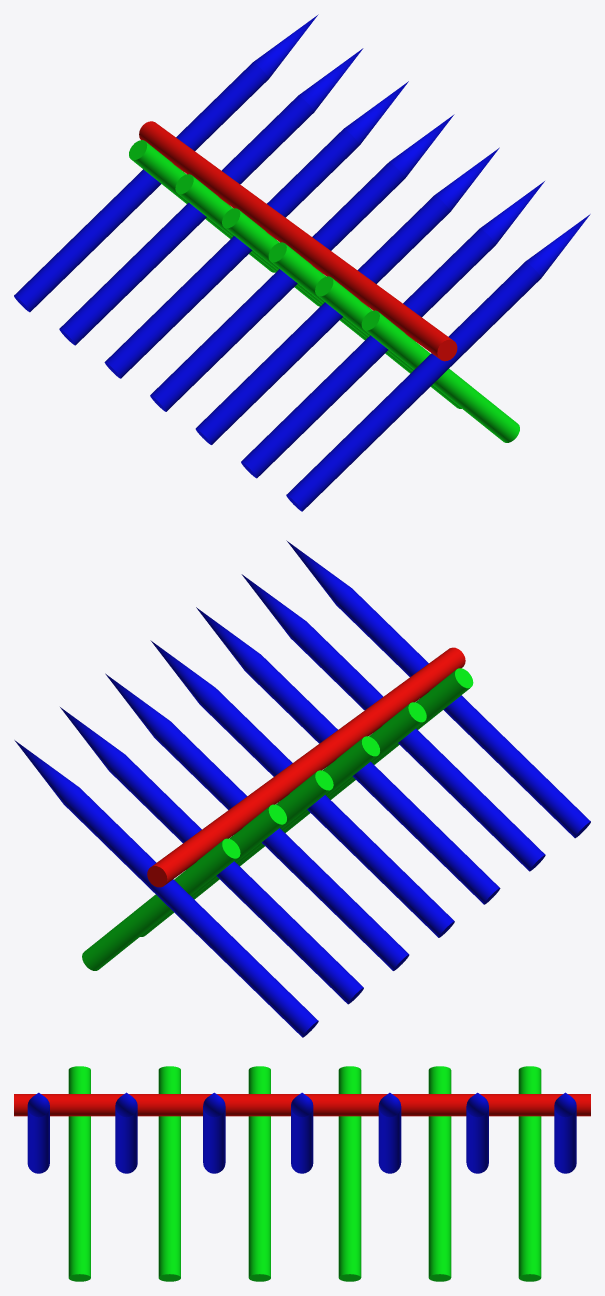
The model's file is barricade.fbx.
3 renders of one model, top to bottom at view 1: azimuth 30°, elevation 25°; view 2: azimuth 150°, elevation 25°; view 3: azimuth 270°, elevation 25°, orthographic. The views are drawn at different scales.
Parts seen in each view (by area): view 1: Spikes; view 2: Spikes; view 3: Spikes.
Boxes of the visible parts, bbox=[...] form: Spikes: bbox=[14, 14, 590, 511]; Spikes: bbox=[14, 540, 590, 1037]; Spikes: bbox=[14, 1066, 590, 1281].
Bounding box in the file's own units: 175 × 126 × 300.
